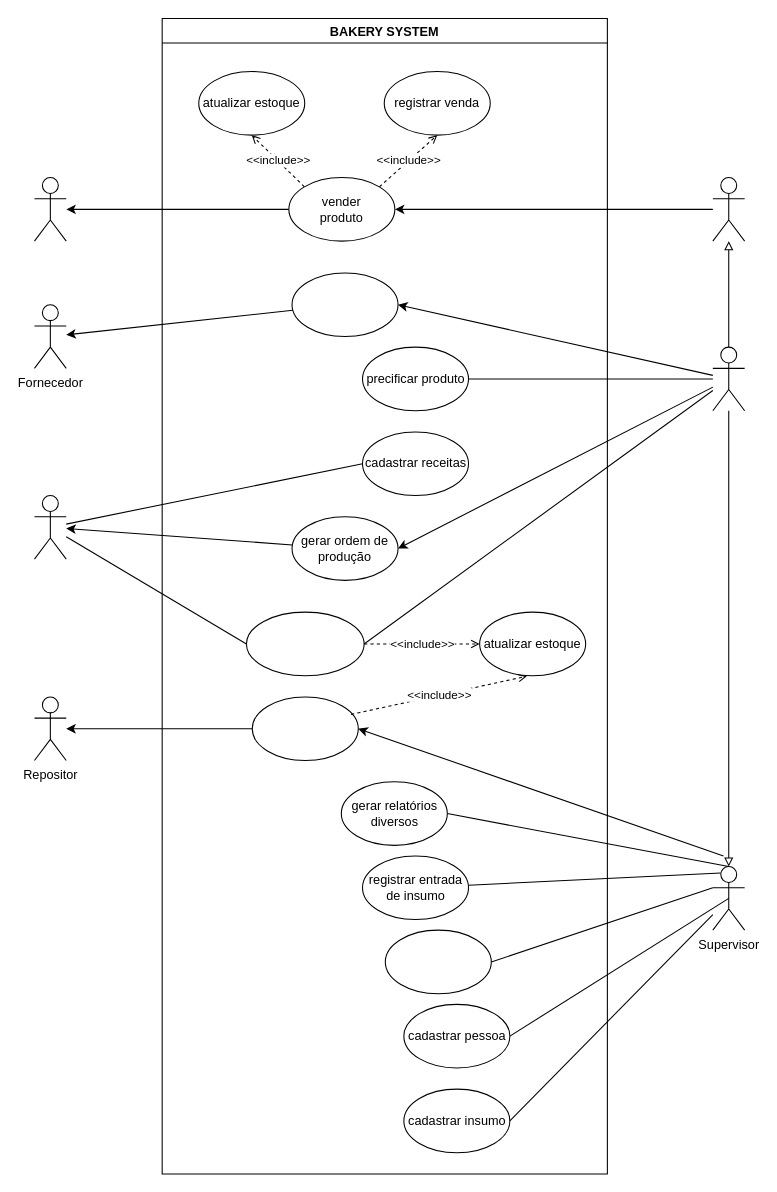
This 777x1192 diagram has some shape labels left out. Here are the shapes that lost their labels. From the top down, the centre of each, then its label:
(x=49, y=208): Cliente
(x=728, y=208): Atendente
(x=344, y=304): enviar orderm de compra
(x=728, y=378): Gerente
(x=49, y=526): Padeiro
(x=304, y=643): finalizar ordem de produção
(x=304, y=728): gerar ordem de abastecimento
(x=437, y=961): cadastrar produto
